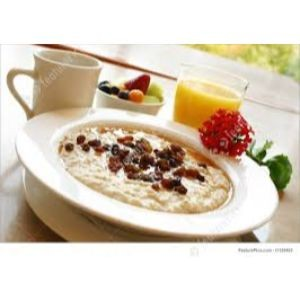oat_brain food: (71, 136, 221, 189)
